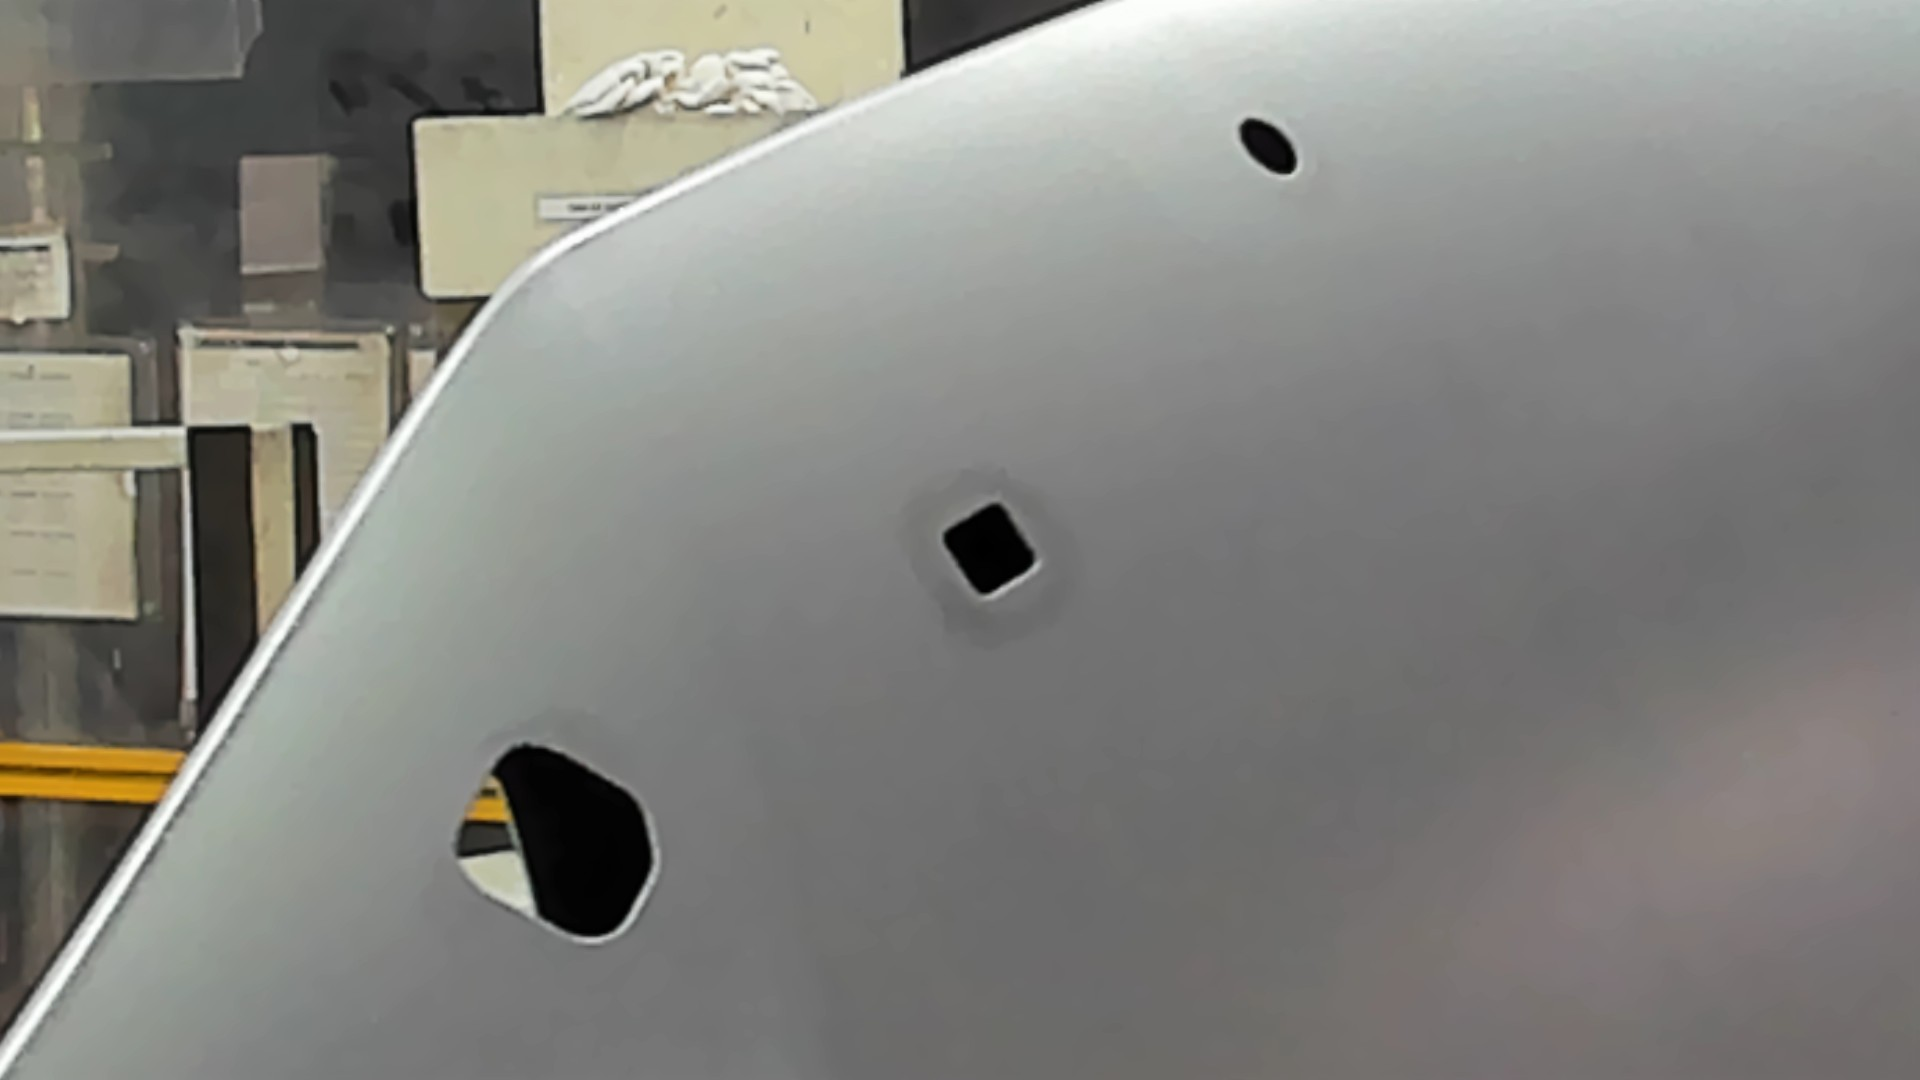chico: (1233, 111, 1305, 177)
grande: (443, 738, 666, 949)
mediano: (930, 495, 1046, 611)
